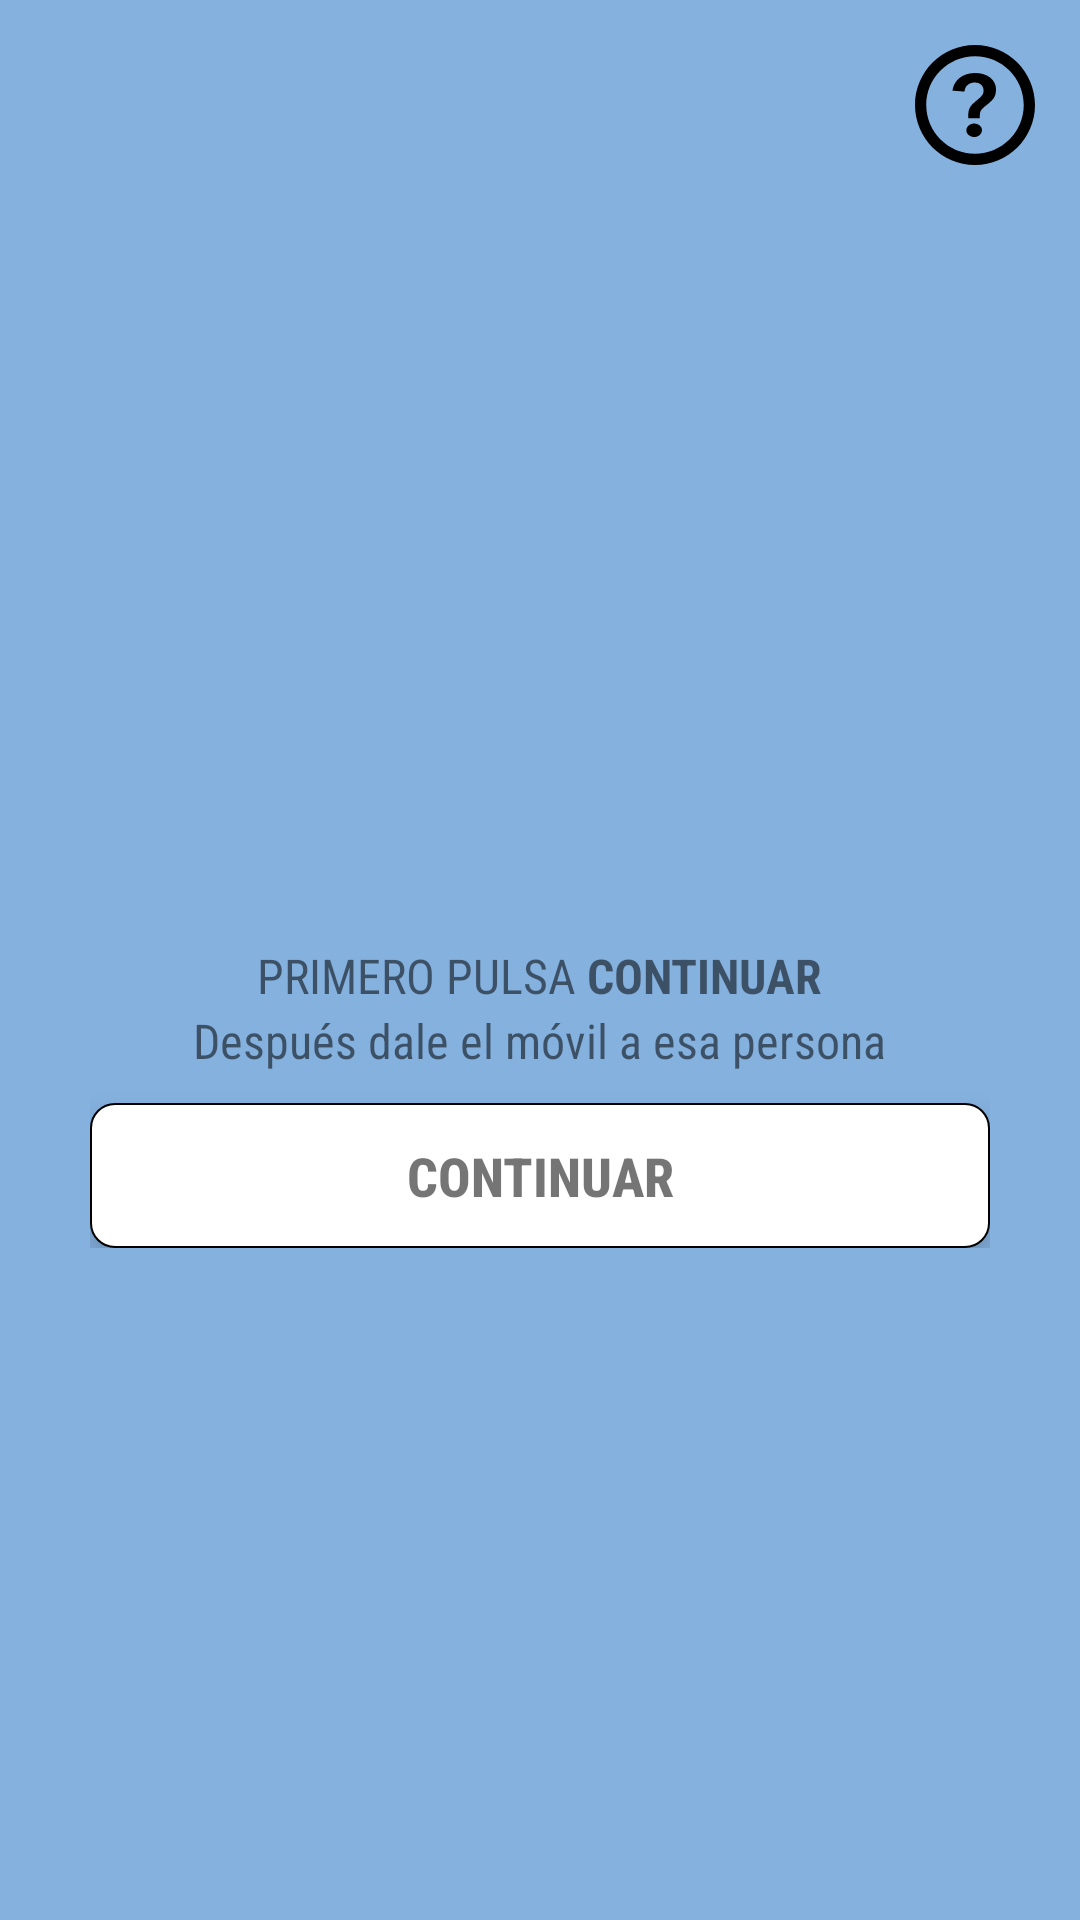

Icons on this 1080*1920 Android screen, each with the point to tap as [x,y]:
question: [975,105]
